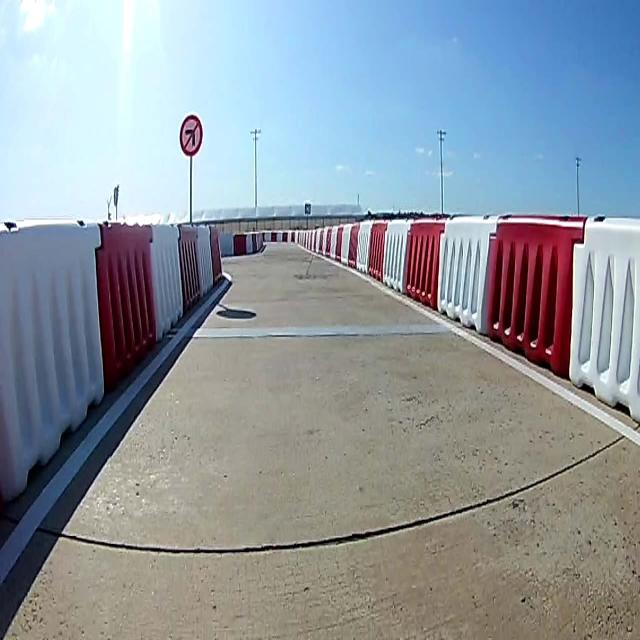soladonulmez: (179, 112, 205, 156)
